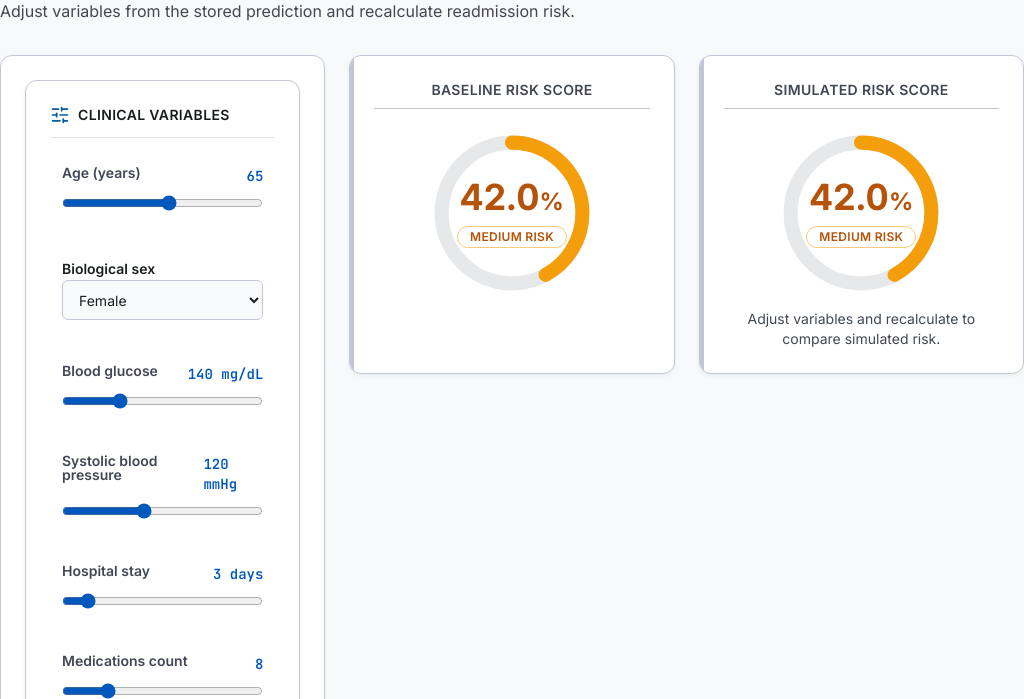
Test: SimulationPage › auto-recalculates after debounced slider change
The image size is (1024, 699).
Set the slider labelled "Blood glucose 140 mg/dL" to "200". click: coordinates (132, 401)
box: 62,392 -> 263,410
Wait 500 ms
(page scrolled)
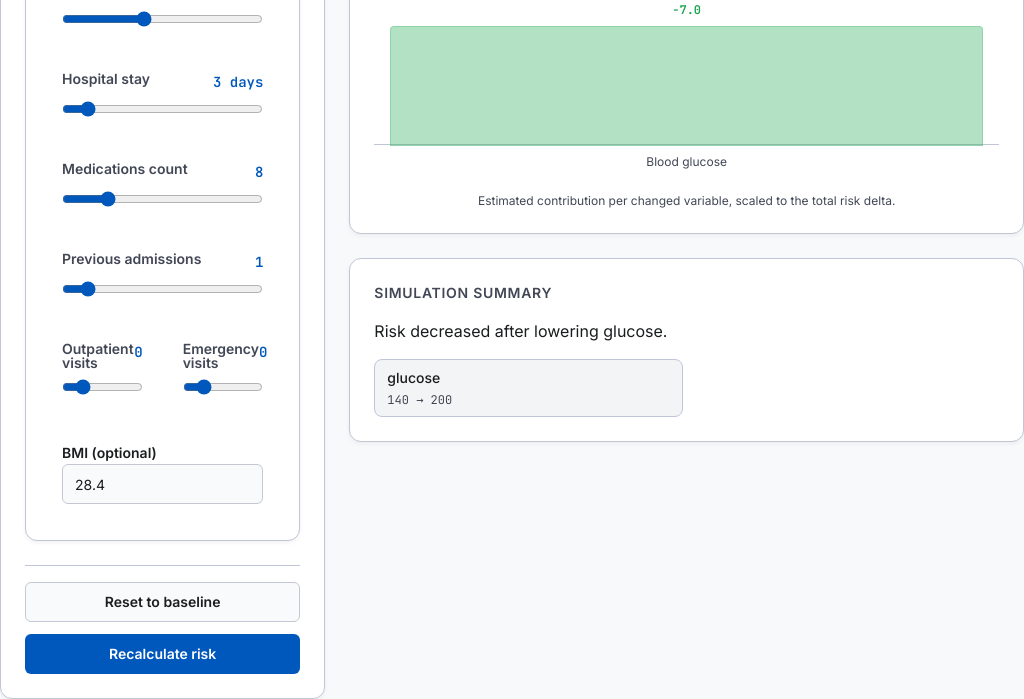
Result: the text "Risk decreased after lowering glucose." is shown at 374,321 -> 668,341
